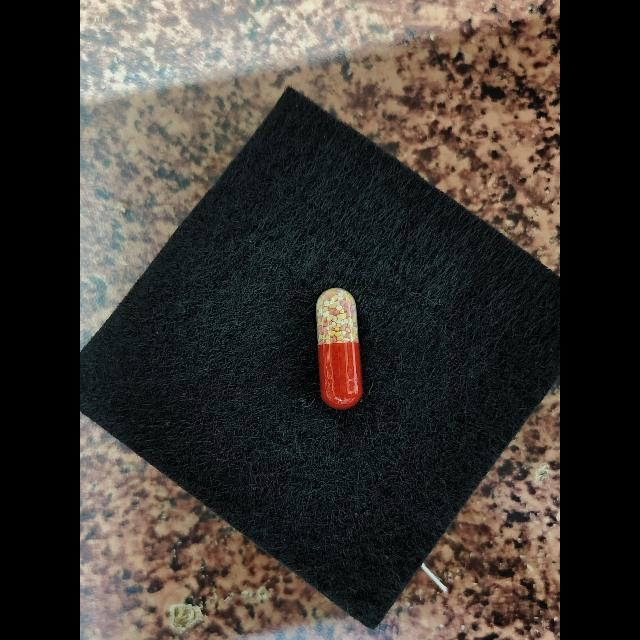Intact Capsule: (316, 288, 363, 409)
